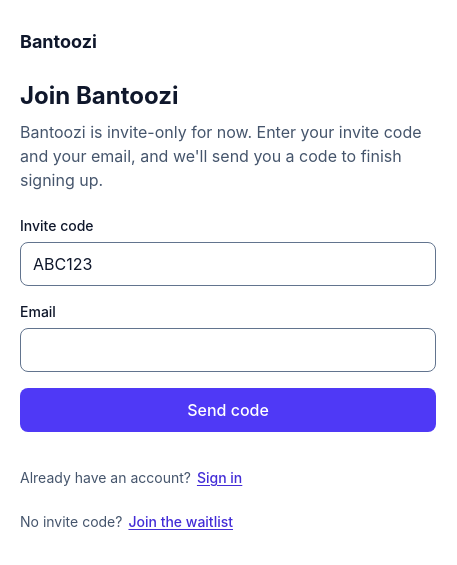
Test: /join › shows the errors of the flow like /login does
The width and height of the screenshot is (457, 565).
Type "ada@example.com" into the field labelled "Email".
click(228, 350); type("ada@example.com")  # box [20, 328, 436, 372]
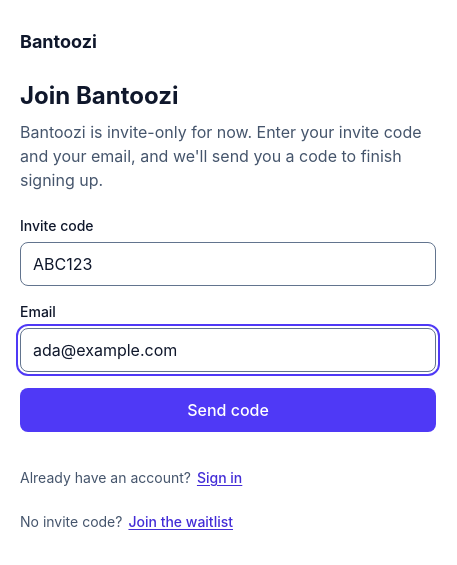
Click the button "Send code".
click(228, 410)  # box [20, 388, 436, 432]
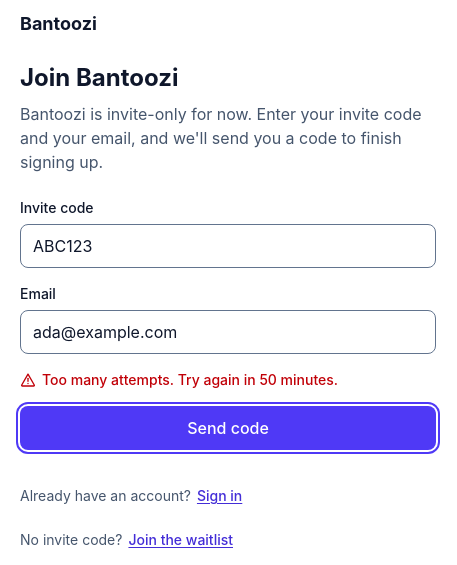
Check: the field labelled "Invite code" holds "ABC123", box [20, 224, 436, 268]
Check: the message "Too many attempts. Try again in 50 minutes." is shown, box [20, 371, 338, 388]
